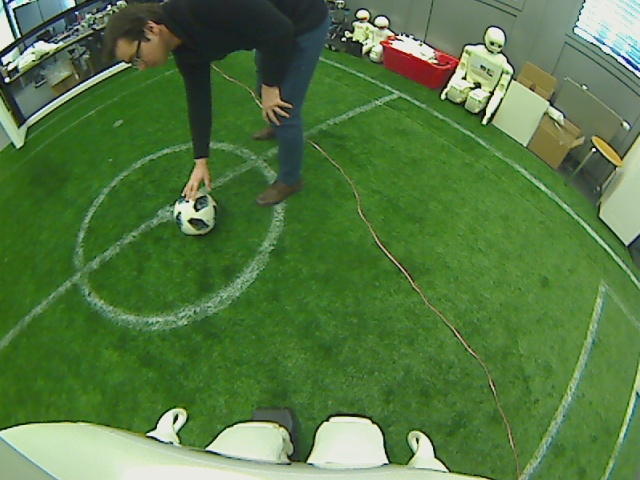ball: (171, 189, 218, 234)
